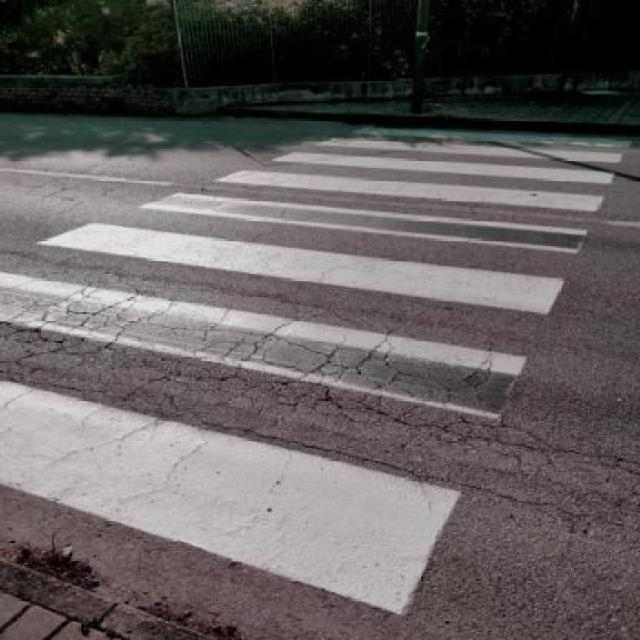crosswalk: (0, 135, 623, 617)
